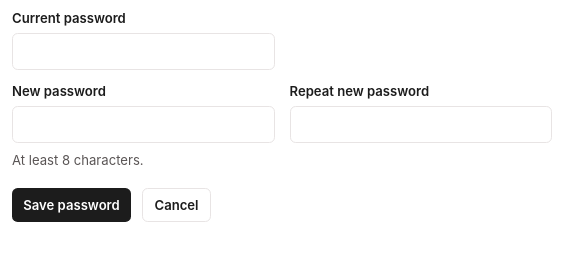
it: ChangePasswordForm › should not send without the current password
Type "break-the-chains" into the password field labelled "New password".
click(143, 125); type("break-the-chains")  # box [12,106,274,143]
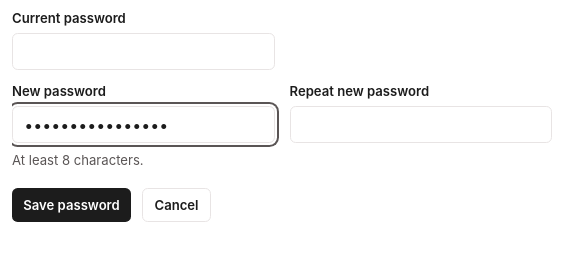
Type "break-the-chains" into the password field labelled "Repeat new password".
click(421, 125); type("break-the-chains")  # box [290,106,552,143]
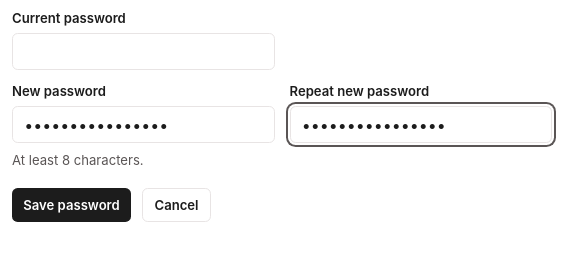
Click the button "Save password".
click(72, 205)  # box [12,188,131,222]
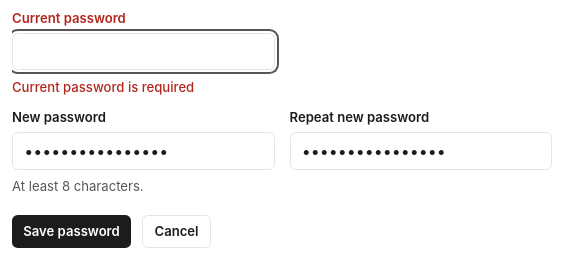
Expected: the text "Current password is required" is shown, [12,79,194,95]
